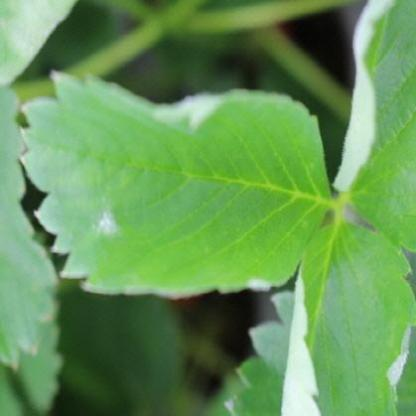Strawberry_Powdery_Mildew_Leaf: (18, 70, 334, 301), (279, 216, 415, 415), (330, 0, 415, 255)
